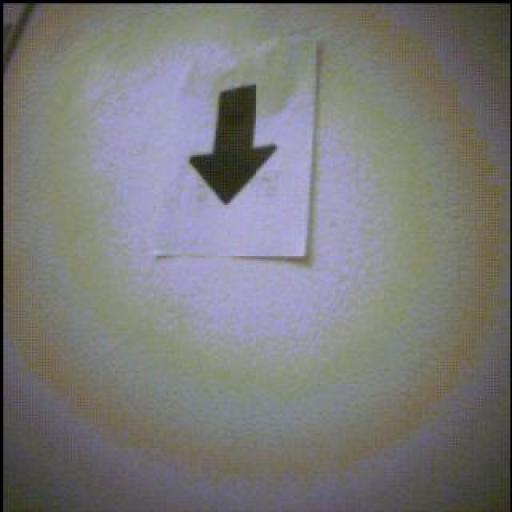arrow: (191, 86, 278, 204)
